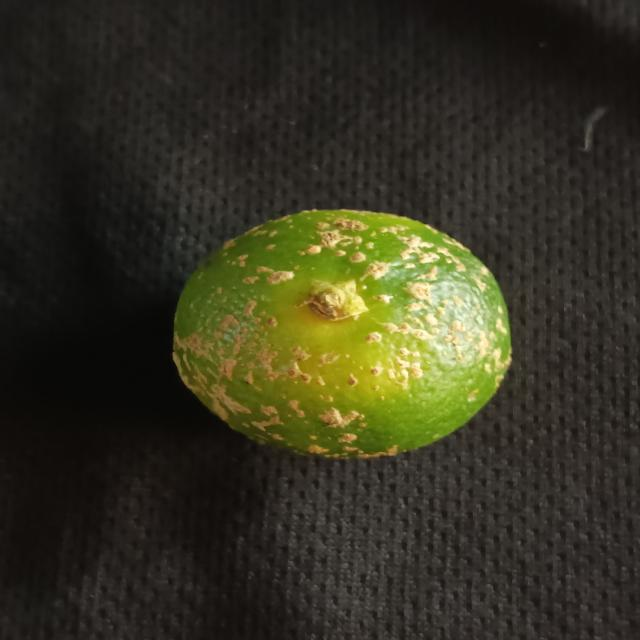scab: (170, 204, 509, 463)
